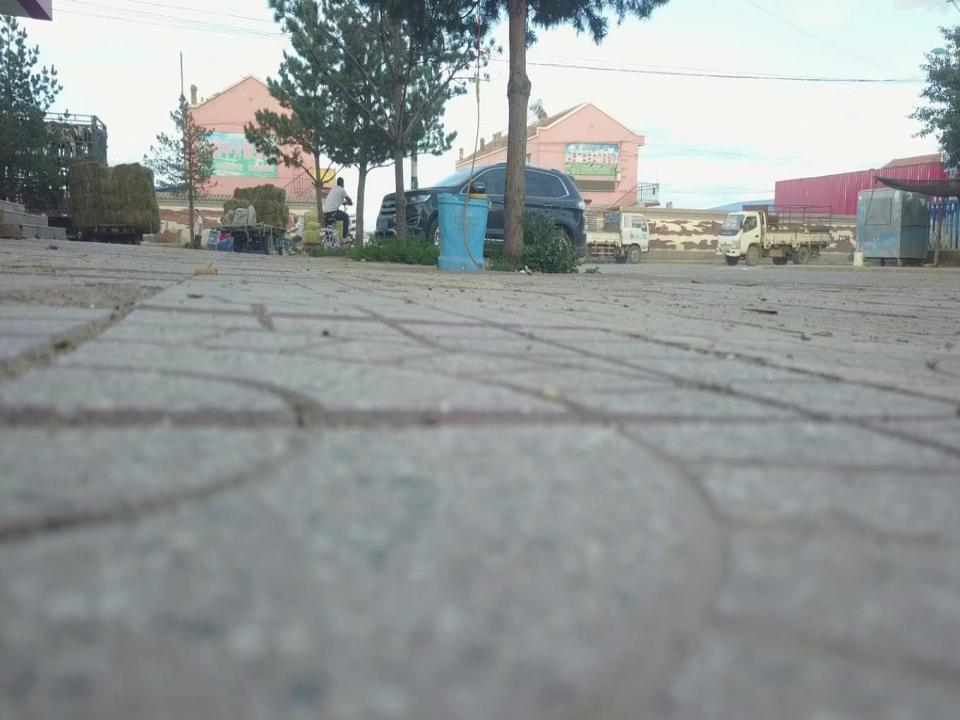car: (377, 158, 589, 264)
truck: (716, 202, 832, 270), (81, 167, 152, 241), (217, 187, 290, 255), (554, 210, 650, 261)
